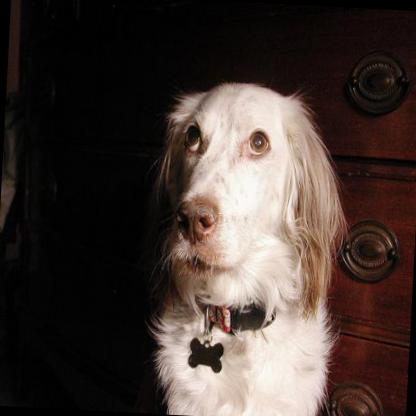English_setter: (126, 72, 360, 416)
